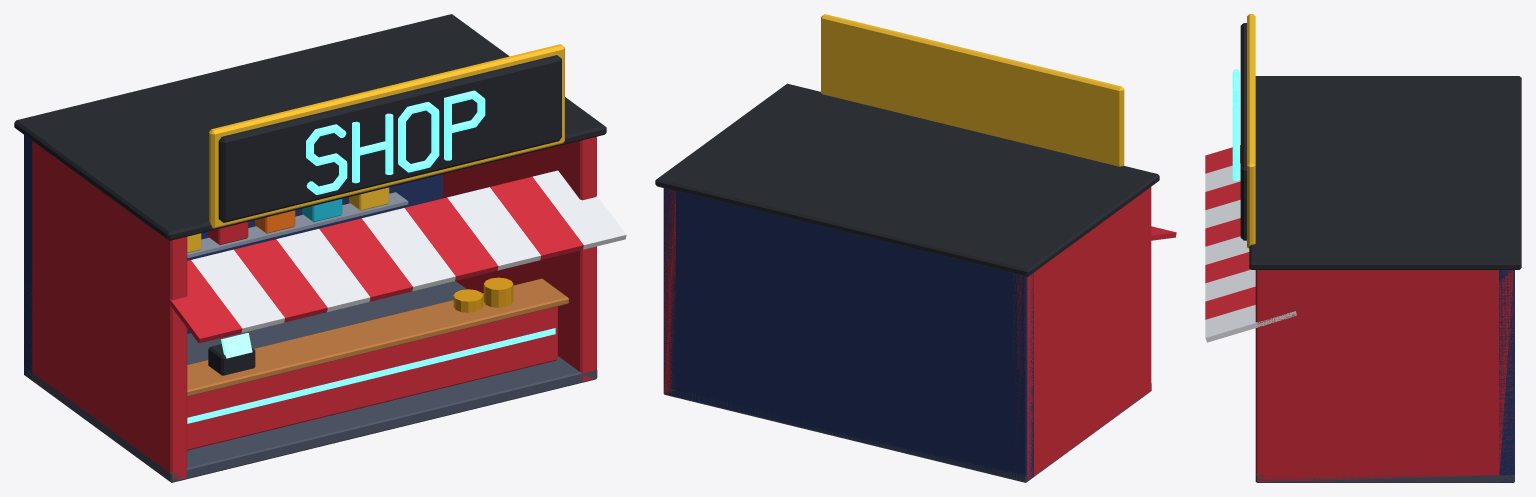
Rendered from Booth_Shop.fbx.
3 renders of one model, left to right at view 1: azimuth 30°, elevation 25°; view 2: azimuth 150°, elevation 25°; view 3: azimuth 270°, elevation 25°, orthographic. The views are drawn at different scales.
Visible parts, largest first — view 1: Booth_Shop, Neon_Cyan; view 2: Booth_Shop; view 3: Booth_Shop, Neon_Cyan.
Part boxes in pixels (x1,y1,x2,y2): Booth_Shop: [14, 14, 626, 482]; Neon_Cyan: [187, 90, 555, 423]; Booth_Shop: [655, 14, 1176, 482]; Booth_Shop: [1205, 14, 1521, 482]; Neon_Cyan: [1232, 69, 1239, 181].
Bounding box in the file's own units: 20.6 × 15.5 × 14.63.
3 materials, 1 textured.
